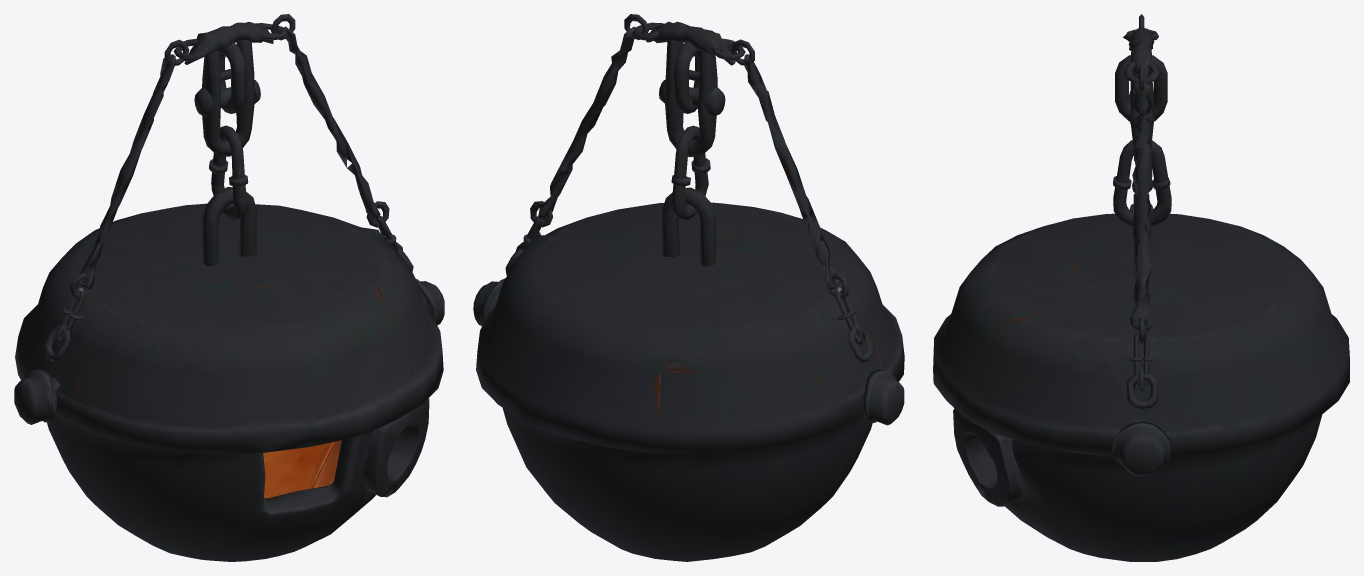
File: slag-crucible.glb
3 renders of one model, left to right at view 1: azimuth 30°, elevation 25°; view 2: azimuth 150°, elevation 25°; view 3: azimuth 270°, elevation 25°, orthographic. The views are drawn at different scales.
Size of the model in its own units: 0.8505 by 1 by 0.7492.
1 material, 1 textured.
